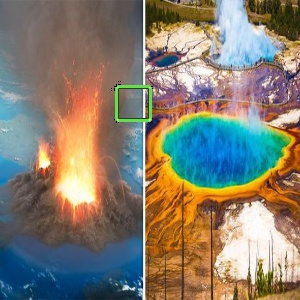square: (112, 82, 155, 124)
